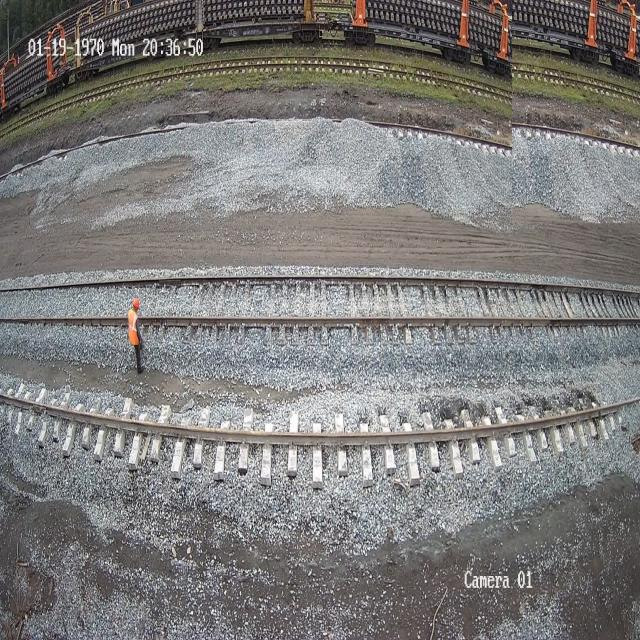Helmet: (133, 298, 139, 309)
Person: (128, 297, 144, 374)
